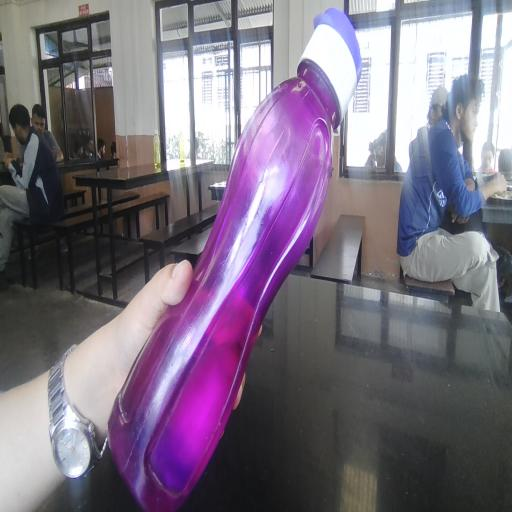Bottle: (132, 43, 380, 477)
